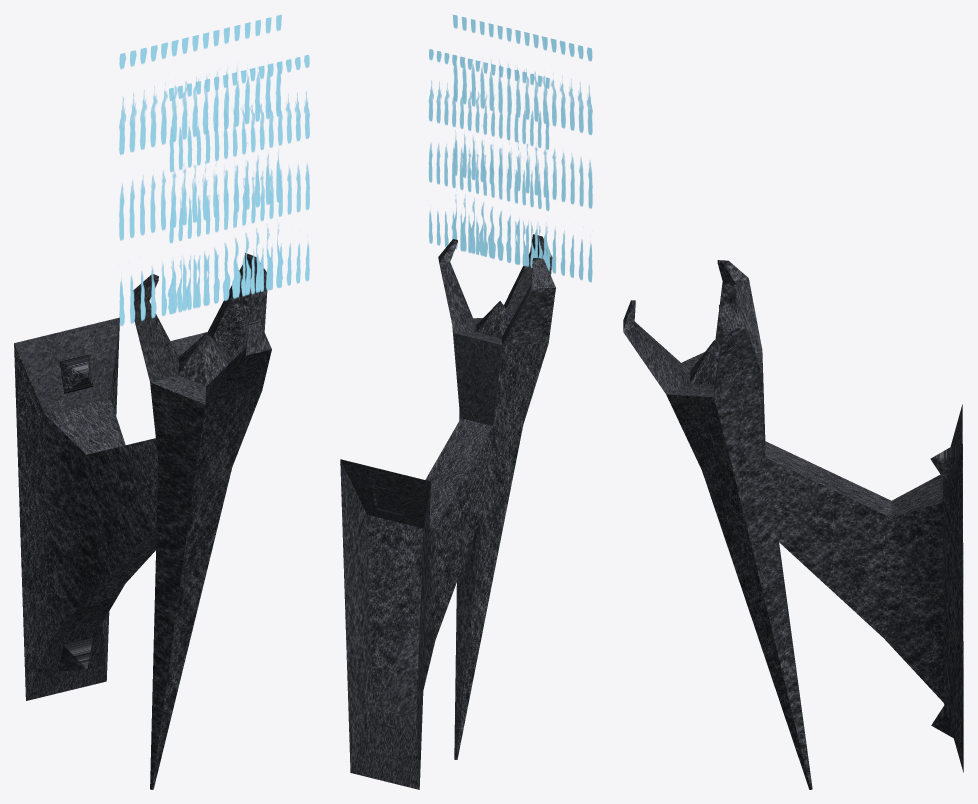
File: mm9_deco_torchmetal.glb
The picture shows the model from 3 angles, left to right: view 1: azimuth 30°, elevation 25°; view 2: azimuth 150°, elevation 25°; view 3: azimuth 270°, elevation 25°; orthographic projection. The views are drawn at different scales.
Visible parts, largest first — view 1: Torchmetal; view 2: Torchmetal; view 3: Torchmetal.
Boxes of the visible parts, left/top/right/bottom form: Torchmetal: left=14, top=14, right=309, bottom=789; Torchmetal: left=340, top=14, right=592, bottom=789; Torchmetal: left=623, top=260, right=963, bottom=789.
Size of the model in its own units: 0.35 by 1.38 by 0.5817.
Materials: 2 (2 with a texture image).
